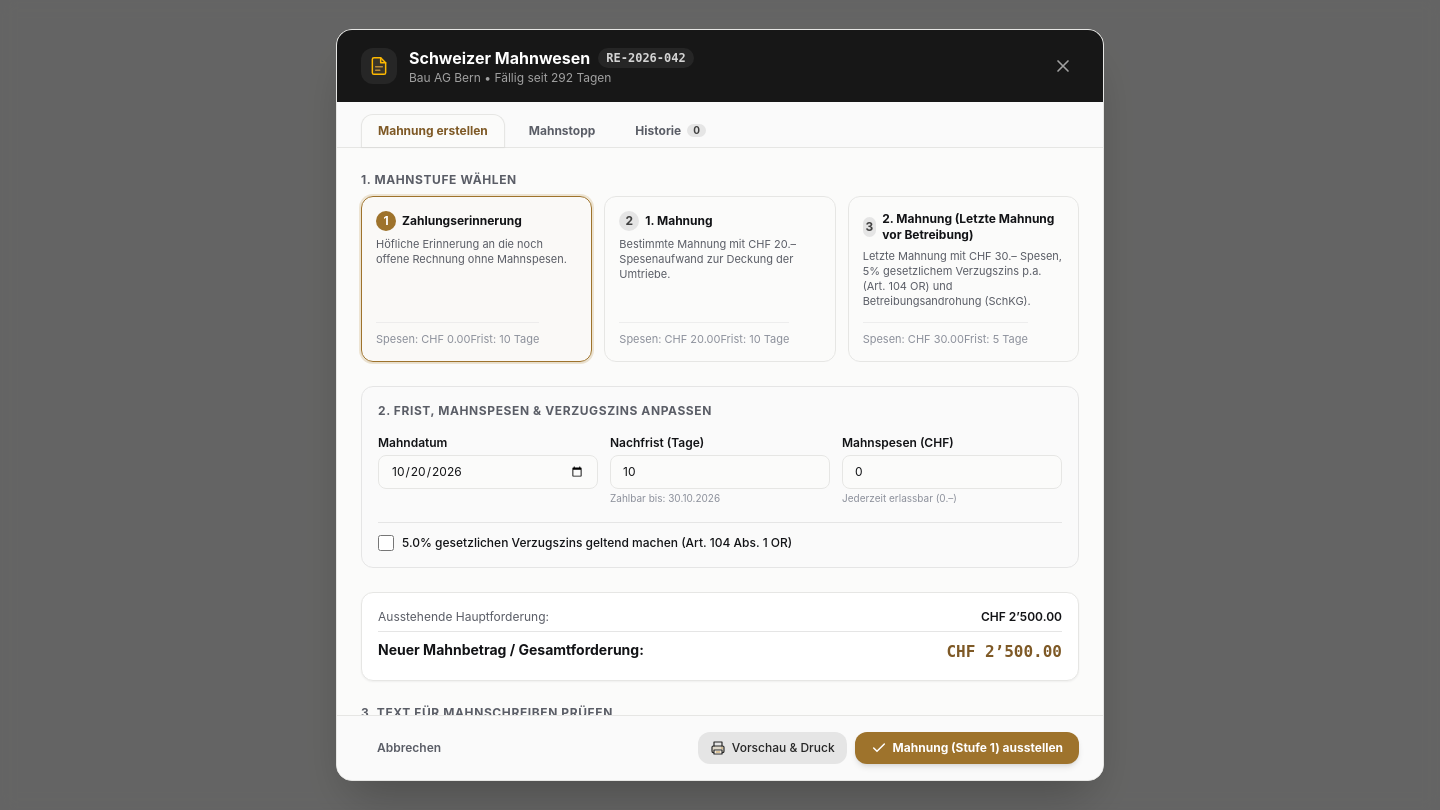
Mahnwesen Modals › MahnungModal › erlaubt Wechsel auf Mahnstopp Tab
Click the button "Mahnstopp": coordinates (562, 130) [513, 114, 611, 147]
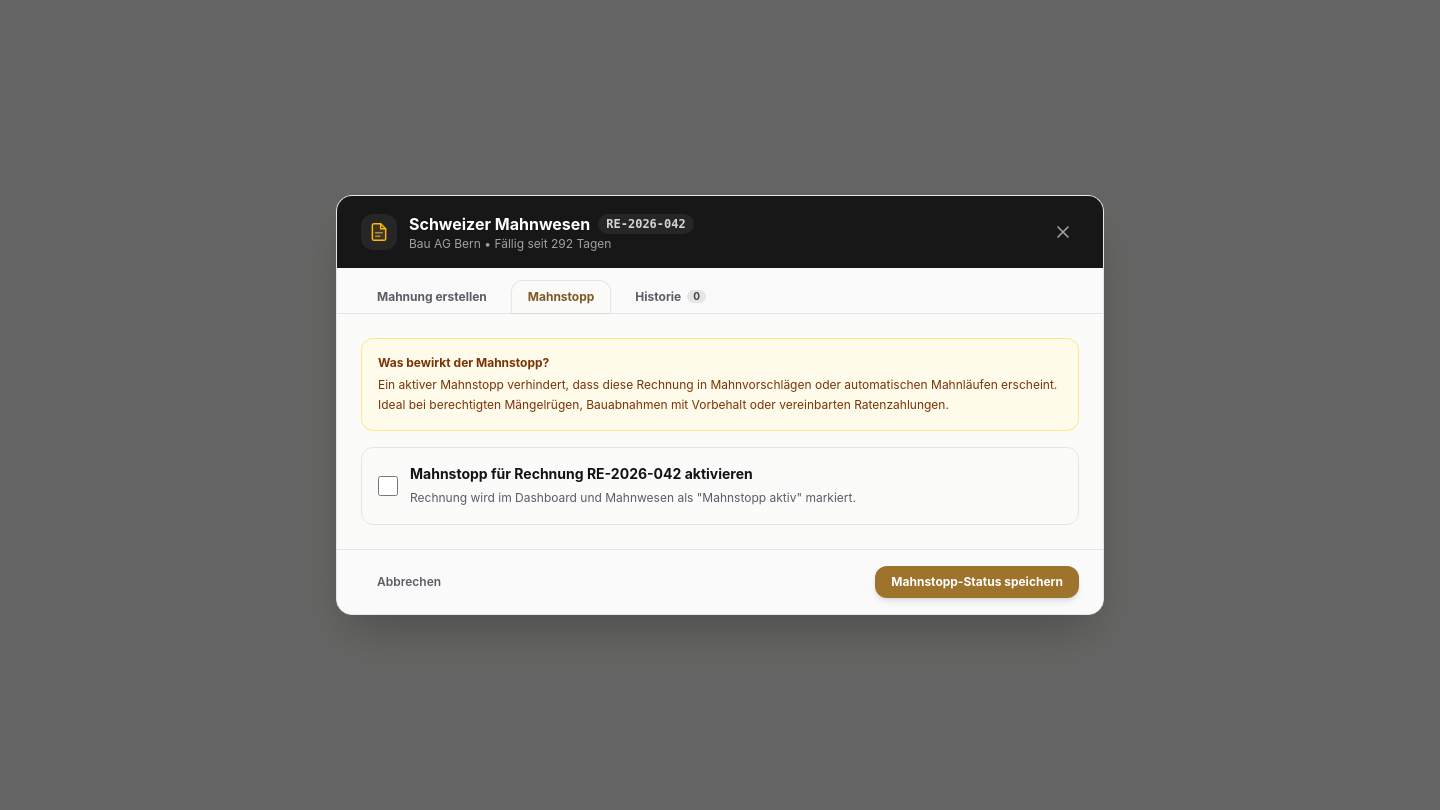
Expected: the text "Was bewirkt der Mahnstopp?" is shown, [378, 355, 549, 370]
